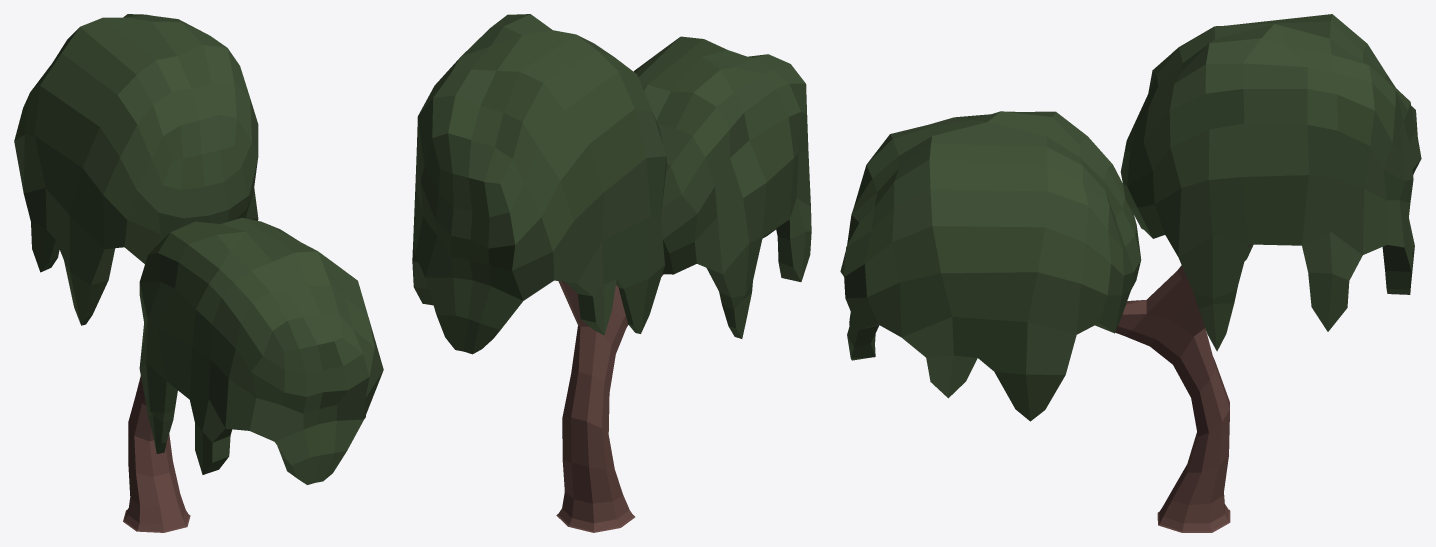
Rendered from Willow_5.gltf.
3 views of the same model, side by side, from view 1: azimuth 30°, elevation 25°; view 2: azimuth 150°, elevation 25°; view 3: azimuth 270°, elevation 25° (orthographic). The views are drawn at different scales.
Visible parts, largest first — view 1: Willow_5; view 2: Willow_5; view 3: Willow_5.
Part boxes in pixels (left/top/right/bottom): Willow_5: left=14, top=14, right=383, bottom=532; Willow_5: left=412, top=14, right=811, bottom=532; Willow_5: left=840, top=14, right=1421, bottom=532.
Size of the model in its own units: 1.01 by 2.42 by 2.49.
